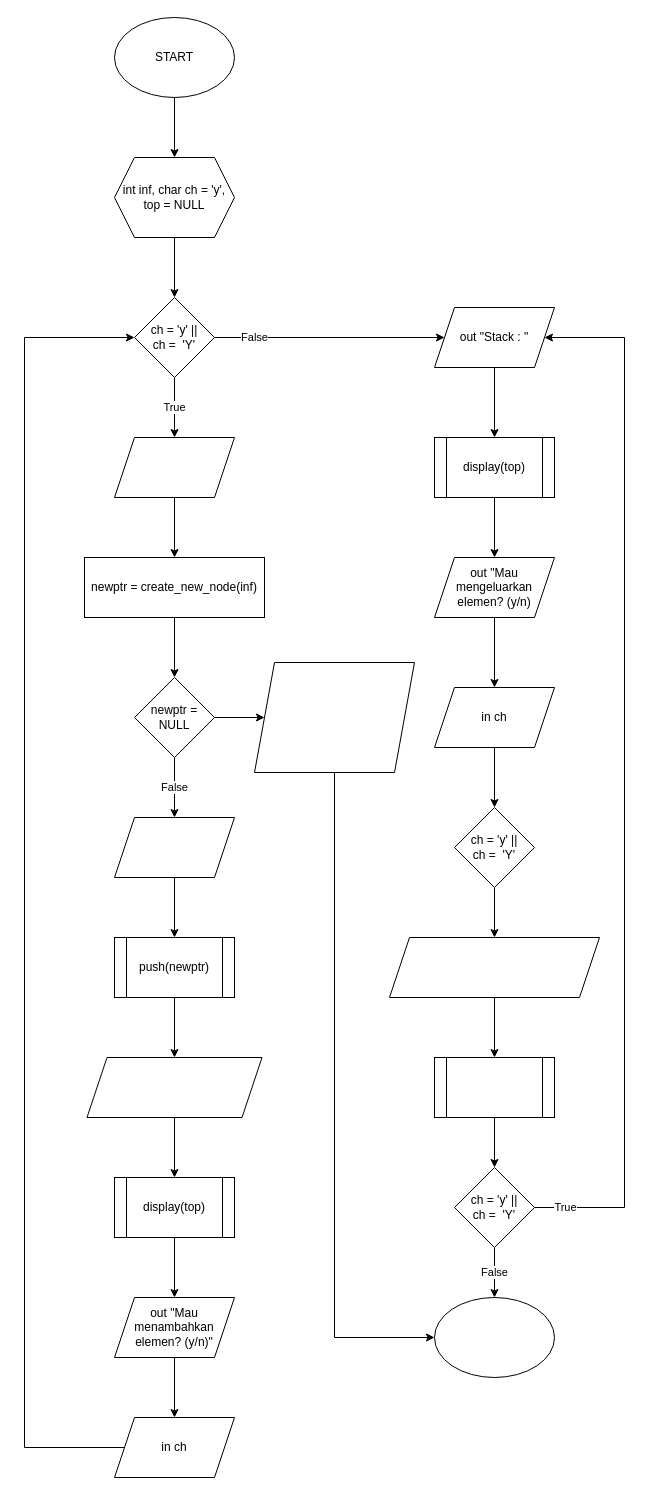
The diagram is 650 pixels wide and 1495 high, and some of its shapes have lost their labels. The shapes that lost their labels are listed below. From the top down, each one's centre as x and y in pixels, then its label:
pixel 174 467: in inf
pixel 334 717: out "Maaf, tidak bisa membuat node... Keluar program..!!
pixel 174 847: out "Elemen dimasukkan..."
pixel 494 967: out "Elemen yang dikeluarkan: ", top->info
pixel 174 1087: out "Elemen behasil dimasukkan...", "Stack: "
pixel 494 1087: pop()
pixel 494 1337: END
